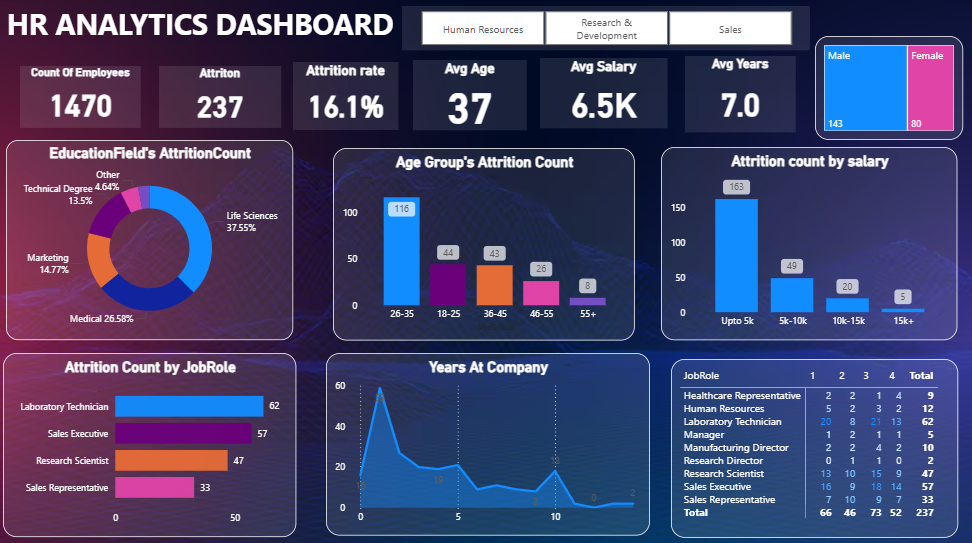

This screenshot's page, from the dashboard's own definition file:
{"tool":"powerbi","page":{"name":"Page 1","canvas":[1280,720],"ordinal":0},"visuals":[{"type":"card","title":"Count Of Employees","fields":{"Values":["CountNonNull(HR_Analytics.EmpID)"]},"box":[30.3,90.8,158.3,81.2],"z":0},{"type":"card","title":"Attriton","fields":{"Values":["Sum(HR_Analytics.AttritionCount)"]},"box":[212,90.8,159.7,81.2],"z":1000},{"type":"card","title":"Attrition rate","fields":{"Values":["HR_Analytics.AttritionRate"]},"box":[388.1,85.3,137.6,89.5],"z":2000},{"type":"card","title":"Avg Age","fields":{"Values":["Avg(HR_Analytics.Age)"]},"box":[545,82.6,148.6,92.2],"z":3000},{"type":"card","title":"Avg Salary","fields":{"Values":["Avg(HR_Analytics.MonthlyIncome)"]},"box":[710.2,79.8,166.5,92.2],"z":4000},{"type":"card","title":"Avg Years","fields":{"Values":["Avg(HR_Analytics.YearsAtCompany)"]},"box":[900.1,77.1,144.5,100.5],"z":5000},{"type":"donutChart","title":"EducationField''s AttritionCount ","fields":{"Category":["HR_Analytics.EducationField"],"Y":["Sum(HR_Analytics.AttritionCount)"]},"box":[12.4,187.2,375.7,261.5],"z":6000},{"type":"lineStackedColumnComboChart","title":"Age Group''s Attrition Count","fields":{"Category":["HR_Analytics.AgeGroup"],"Y":["Sum(HR_Analytics.AttritionCount)"]},"box":[440.4,198.2,395,251.9],"z":7000},{"type":"pivotTable","fields":{"Rows":["HR_Analytics.JobRole"],"Columns":["HR_Analytics.JobSatisfaction"],"Values":["Sum(HR_Analytics.AttritionCount)"]},"box":[882.2,473.5,375.7,234],"z":8000},{"type":"lineStackedColumnComboChart","title":"Attrition count by salary","fields":{"Y":["Sum(HR_Analytics.AttritionCount)"],"Category":["HR_Analytics.SalarySlab"]},"box":[869.8,196.8,388.1,253.2],"z":9000},{"type":"clusteredBarChart","title":"Attrition Count by JobRole","fields":{"Y":["Sum(HR_Analytics.AttritionCount)"],"Category":["HR_Analytics.JobRole"]},"box":[8.3,466.6,384,240.9],"z":10000},{"type":"areaChart","title":"Years At Company","fields":{"Category":["HR_Analytics.YearsAtCompany"],"Y":["Sum(HR_Analytics.AttritionCount)"]},"box":[430.8,466.6,423.9,239.5],"z":11000},{"type":"treemap","fields":{"Values":["Sum(HR_Analytics.AttritionCount)"],"Group":["HR_Analytics.Gender"]},"box":[1070.8,50.9,194.1,136.3],"z":12000},{"type":"slicer","fields":{"Values":["HR_Analytics.Department"]},"box":[529.9,12.4,534,57.8],"z":13000},{"type":"textbox","box":[8.3,5.5,536.8,71.6],"z":14000}]}

Visuals, with their boxes in screenshot pixels (x1, y1, x2, y2), scaled from the page's 1280x720 canvas onto the 972x543 screenshot:
"Count Of Employees" card: (23,68,143,130)
"Attriton" card: (161,68,282,130)
"Attrition rate" card: (295,64,399,132)
"Avg Age" card: (414,62,527,132)
"Avg Salary" card: (539,60,666,130)
"Avg Years" card: (684,58,793,134)
"EducationField''s AttritionCount " donutChart: (9,141,295,338)
"Age Group''s Attrition Count" lineStackedColumnComboChart: (334,149,634,339)
pivotTable - HR_Analytics.JobRole x HR_Analytics.JobSatisfaction: (670,357,955,534)
"Attrition count by salary" lineStackedColumnComboChart: (661,148,955,339)
"Attrition Count by JobRole" clusteredBarChart: (6,352,298,534)
"Years At Company" areaChart: (327,352,649,533)
treemap - Sum(HR_Analytics.AttritionCount) x HR_Analytics.Gender: (813,38,961,141)
slicer - HR_Analytics.Department: (402,9,808,53)
textbox: (6,4,414,58)
